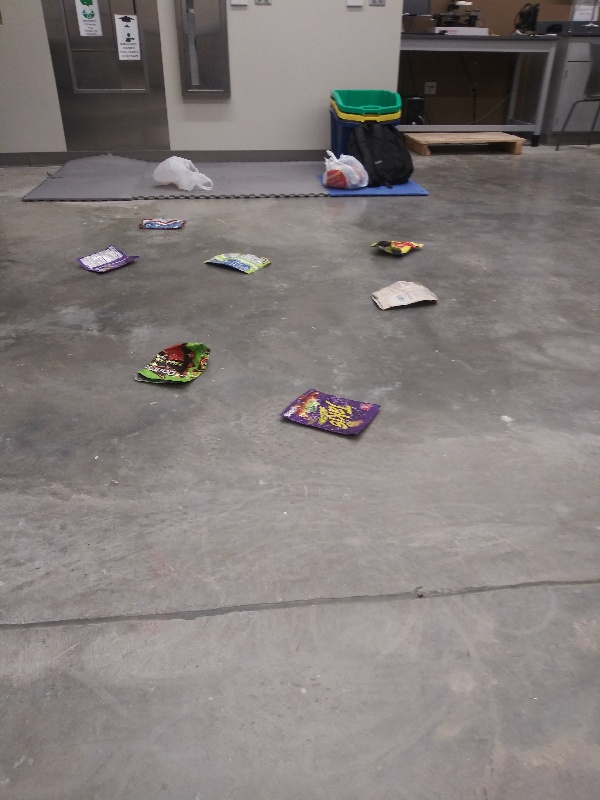bag: (277, 385, 386, 441), (131, 339, 214, 387), (367, 275, 444, 315), (78, 242, 148, 275), (200, 253, 272, 277), (367, 235, 433, 258), (141, 212, 190, 235)
